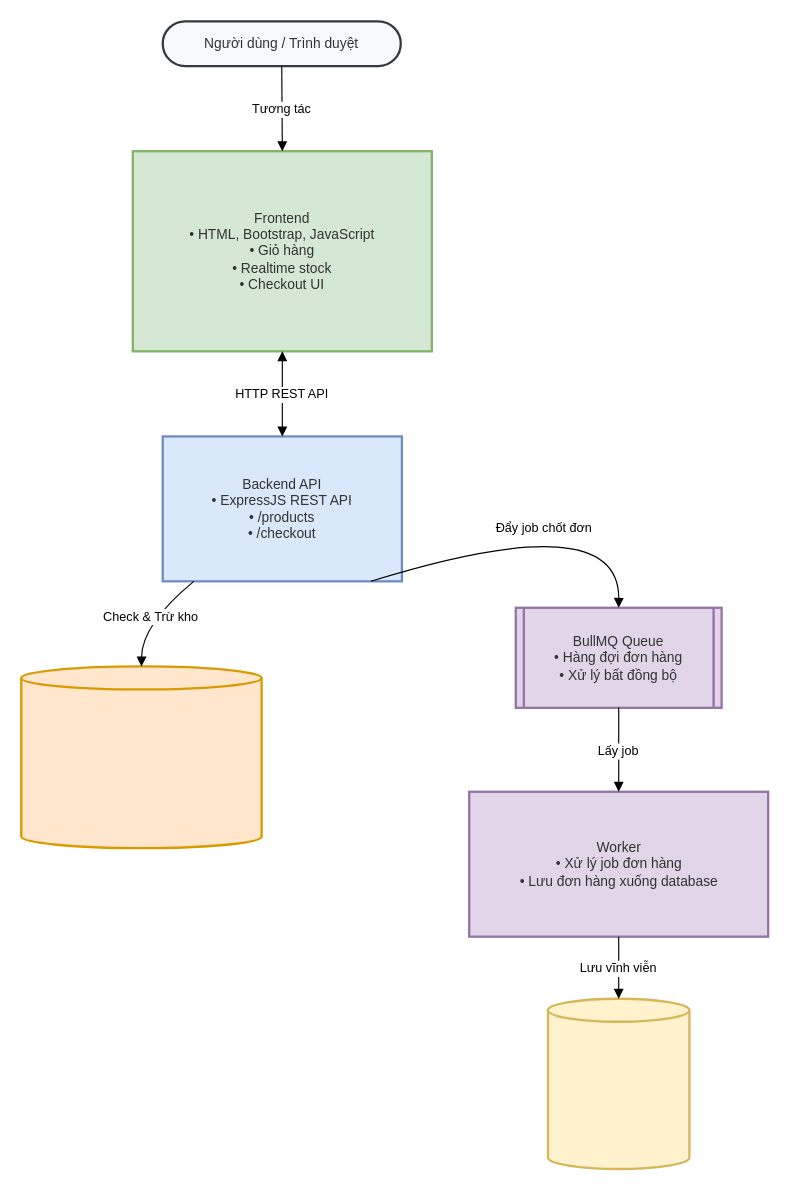
Some shapes in this 789 by 1189 pixel diagram are drawn without their labels. The centre of each missing label's shape, as x and y in pixels:
"PostgreSQL • Lưu products • orders • cart_items" belongs at (618,1083).
"Redis • Quản lý tồn kho realtime • Atomic DECRBY • Chống oversell" belongs at (141,757).
